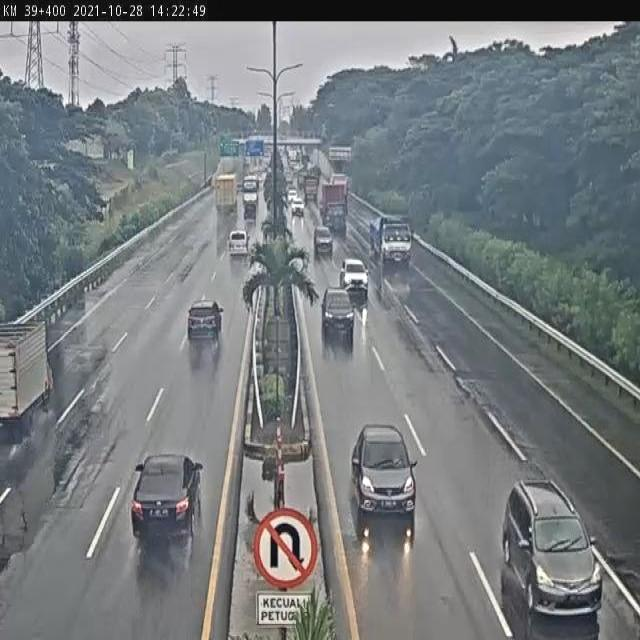Bus: (241, 174, 259, 204)
Car: (502, 479, 602, 634), (132, 452, 204, 552), (349, 422, 421, 513), (321, 286, 355, 340), (187, 298, 225, 346), (339, 258, 369, 294), (314, 226, 333, 256), (292, 196, 304, 217)
Truck: (2, 320, 55, 445), (369, 213, 414, 267), (318, 182, 348, 234), (215, 172, 238, 214), (303, 173, 319, 204)
Van: (228, 230, 250, 256)
